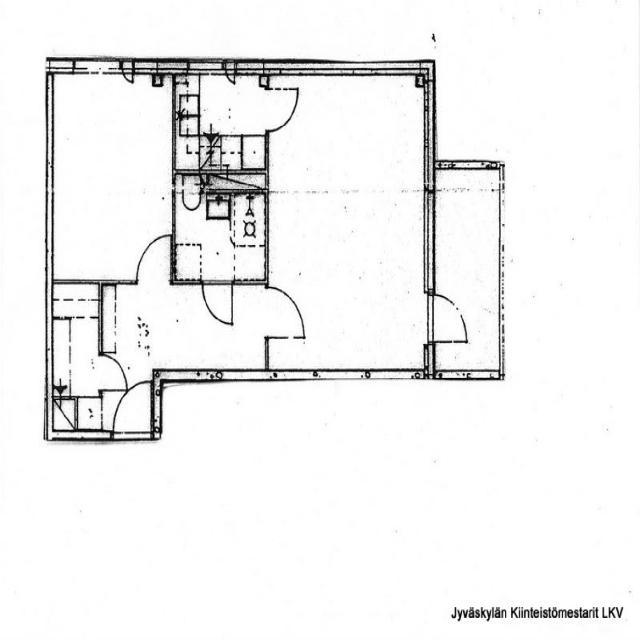door: (262, 280, 308, 342), (112, 376, 156, 438), (427, 290, 469, 346), (134, 231, 175, 288), (262, 78, 301, 135), (200, 278, 237, 330), (94, 353, 127, 394), (118, 57, 137, 90)
window: (420, 190, 440, 294), (110, 426, 150, 445), (188, 56, 222, 75)
zone: (271, 70, 430, 373), (49, 70, 173, 285), (431, 166, 501, 364), (172, 174, 268, 284), (175, 72, 267, 171), (49, 290, 100, 436), (241, 133, 268, 172)
